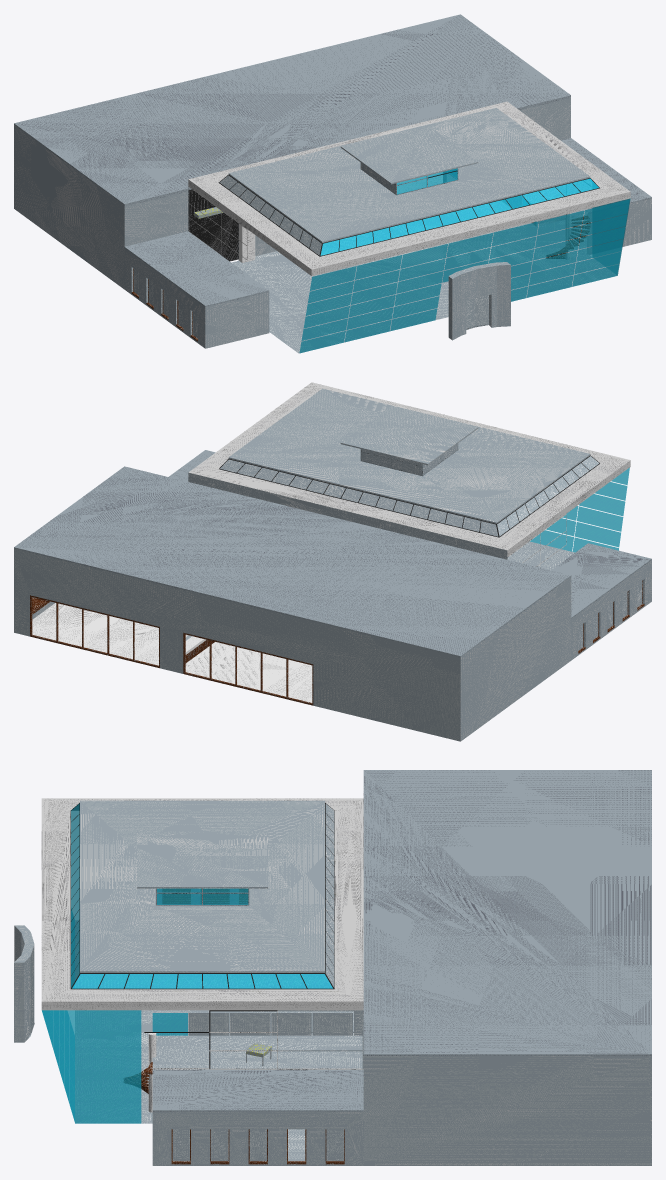
File: showroom_moje_textury_zmensene.obj
3 renders of one model, top to bottom at view 1: azimuth 30°, elevation 25°; view 2: azimuth 150°, elevation 25°; view 3: azimuth 270°, elevation 25°, orthographic. The views are drawn at different scales.
Visible parts, largest first — view 1: Mesh22 Model, Mesh25 Model, Mesh58 Model, Mesh36 Model, Mesh43 Model, Mesh45 Model, Mesh49 Model, Mesh48 Model, Mesh32 Model, Mesh35 Model, Mesh47 Model, Mesh37 Model (+19 smaller); view 2: Mesh22 Model, Mesh31 Model, Mesh30 Model, Mesh28 Model; view 3: Mesh22 Model, Mesh25 Model, Mesh12 zabradlie_sklenene_kus4 Model, Mesh9 zabradlie_sklenene_kus1 Model, Mesh10 zabradlie_sklenene_kus2 Model, Mesh11 zabradlie_sklenene_kus3 Model.
Part boxes in pixels (x1,y1,x2,y2): Mesh22 Model: [14, 14, 651, 353]; Mesh25 Model: [448, 262, 510, 340]; Mesh58 Model: [400, 244, 447, 268]; Mesh36 Model: [355, 255, 402, 279]; Mesh43 Model: [582, 199, 629, 224]; Mesh45 Model: [491, 221, 538, 246]; Mesh49 Model: [537, 210, 584, 235]; Mesh48 Model: [446, 233, 493, 257]; Mesh32 Model: [310, 266, 356, 290]; Mesh35 Model: [396, 271, 443, 293]; Mesh47 Model: [398, 258, 445, 281]; Mesh37 Model: [394, 283, 441, 306]; Mesh22 Model: [14, 382, 651, 741]; Mesh31 Model: [577, 506, 623, 531]; Mesh30 Model: [574, 522, 620, 547]; Mesh28 Model: [579, 494, 625, 516]; Mesh22 Model: [41, 770, 651, 1165]; Mesh25 Model: [14, 925, 34, 1042]; Mesh12 zabradlie_sklenene_kus4 Model: [188, 1013, 229, 1035]; Mesh9 zabradlie_sklenene_kus1 Model: [312, 1013, 352, 1035]; Mesh10 zabradlie_sklenene_kus2 Model: [271, 1013, 311, 1035]; Mesh11 zabradlie_sklenene_kus3 Model: [230, 1013, 270, 1035].
Bounding box in the file's own units: 35 × 9.47 × 33.18.
Materials: 13 (5 with a texture image).
